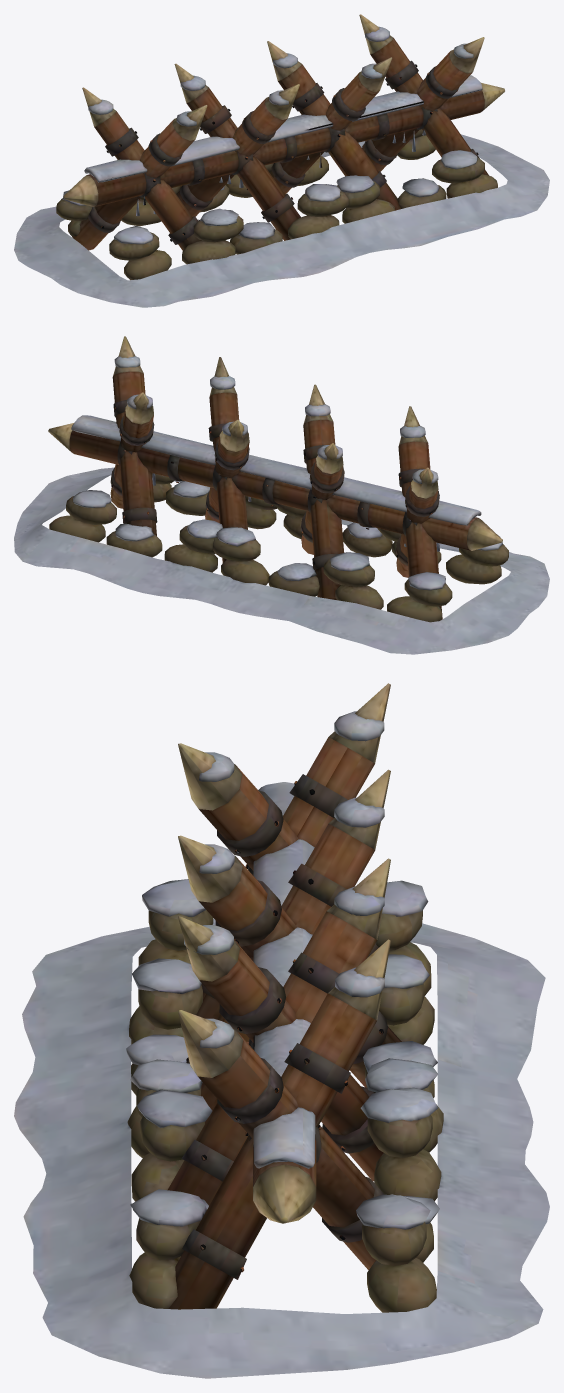
File: barricade.glb
The picture shows the model from 3 angles, top to bottom: view 1: azimuth 30°, elevation 25°; view 2: azimuth 150°, elevation 25°; view 3: azimuth 270°, elevation 25°; orthographic projection. The views are drawn at different scales.
Parts seen in each view (by area): view 1: model; view 2: model; view 3: model.
Boxes of the visible parts, x1=… form: model: x1=14, y1=14, x2=549, y2=307; model: x1=14, y1=336, x2=549, y2=654; model: x1=14, y1=683, x2=549, y2=1378.
Size of the model in its own units: 5.79 by 1.9 by 2.8.
Materials: 1 (1 with a texture image).
